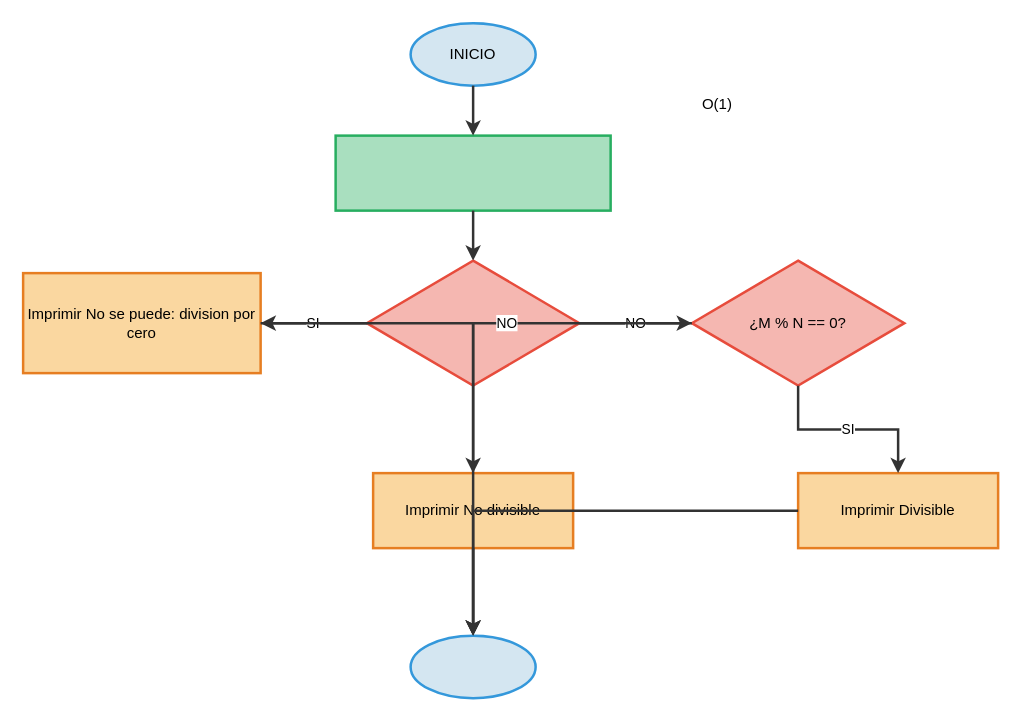
The diagram is 1020 pixels wide and 720 high, and some of its shapes have lost their labels. Each missing label, with the centre of its shape:
"FIN" belongs at (x=472, y=666).
"Leer M y N" belongs at (x=472, y=172).
"¿N == 0?" belongs at (x=472, y=322).
